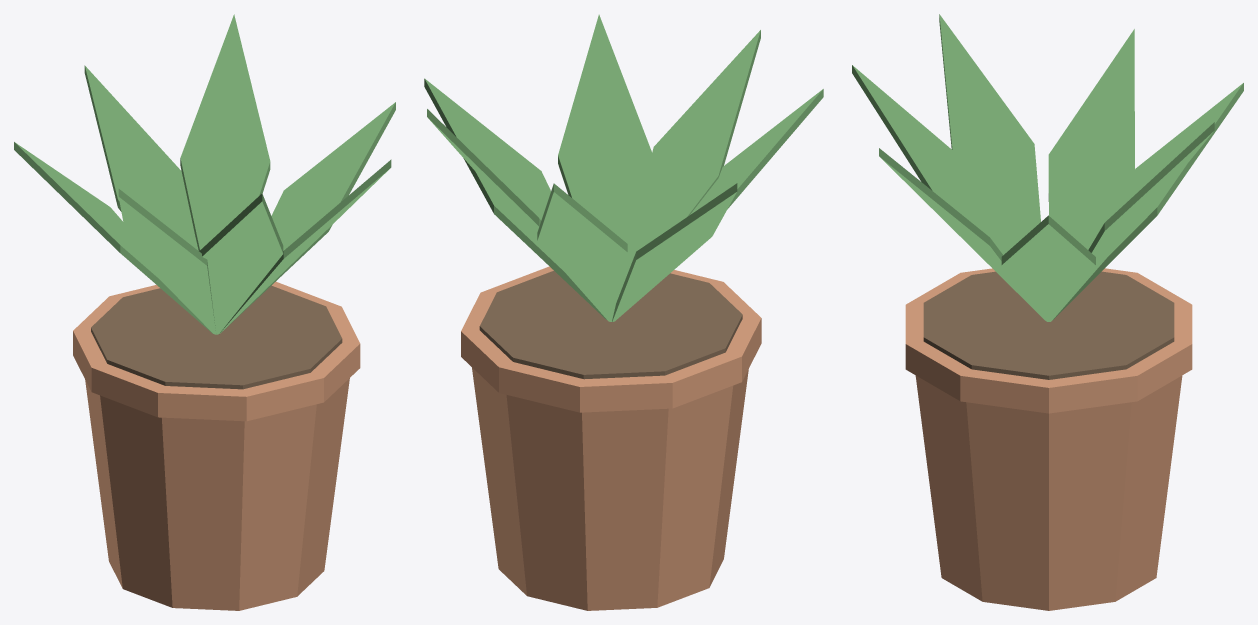
The model's file is plant_pot.glb.
The picture shows the model from 3 angles, left to right: view 1: azimuth 30°, elevation 25°; view 2: azimuth 150°, elevation 25°; view 3: azimuth 270°, elevation 25°; orthographic projection. The views are drawn at different scales.
Size of the model in its own units: 0.4356 by 0.575 by 0.416.
